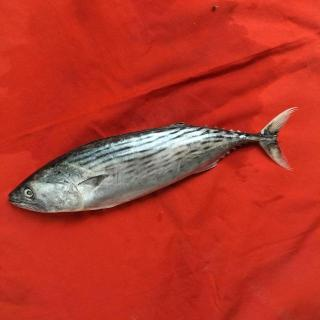Ikan: (9, 109, 299, 222)
